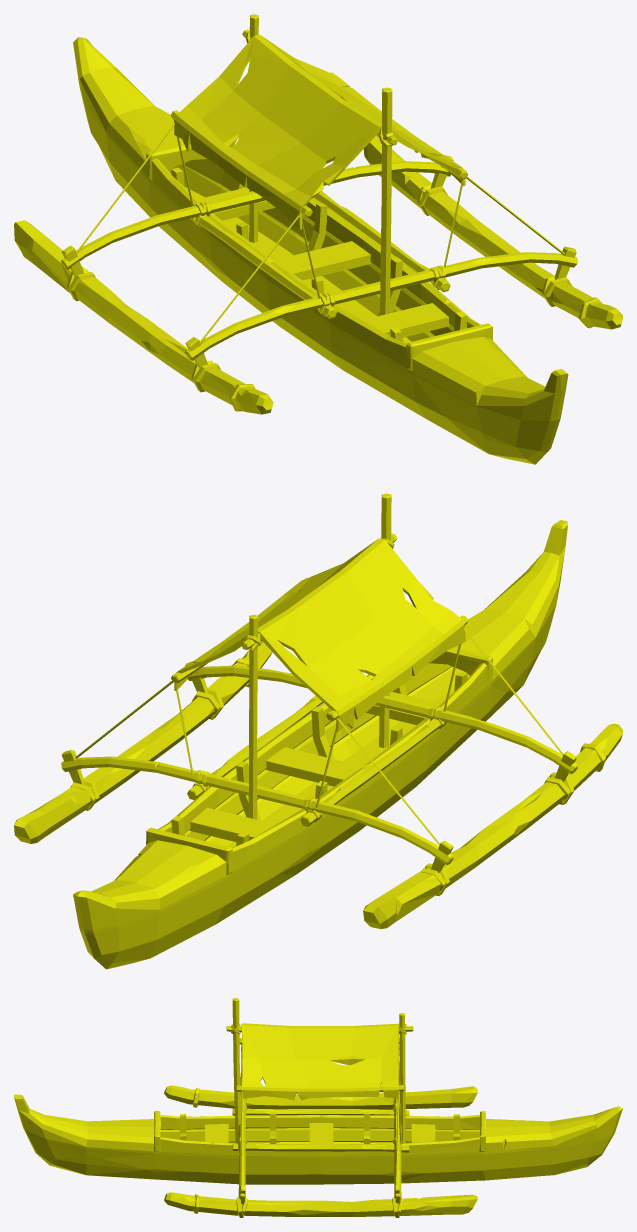
The model's file is trp_canoe.glb.
3 renders of one model, top to bottom at view 1: azimuth 30°, elevation 25°; view 2: azimuth 150°, elevation 25°; view 3: azimuth 270°, elevation 25°, orthographic. The views are drawn at different scales.
Parts seen in each view (by area): view 1: SM_Veh_Outrigger_Canoe_01; view 2: SM_Veh_Outrigger_Canoe_01; view 3: SM_Veh_Outrigger_Canoe_01.
Part boxes in pixels (x1,y1,x2,y2): SM_Veh_Outrigger_Canoe_01: [14, 14, 622, 464]; SM_Veh_Outrigger_Canoe_01: [14, 493, 622, 969]; SM_Veh_Outrigger_Canoe_01: [14, 998, 622, 1217].
Bounding box in the file's own units: 3.17 × 2.22 × 6.84.
Materials: 1 (1 with a texture image).
